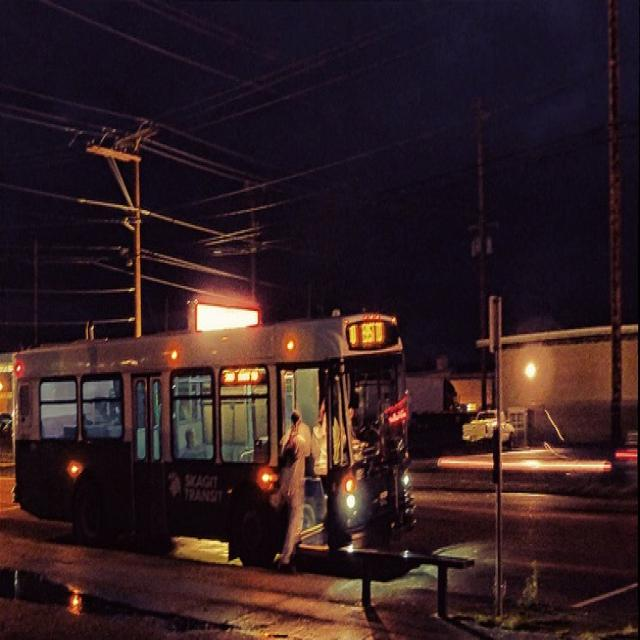Bus: (0, 291, 414, 599)
People: (262, 388, 317, 577), (297, 371, 352, 491)
car: (449, 393, 523, 471)
